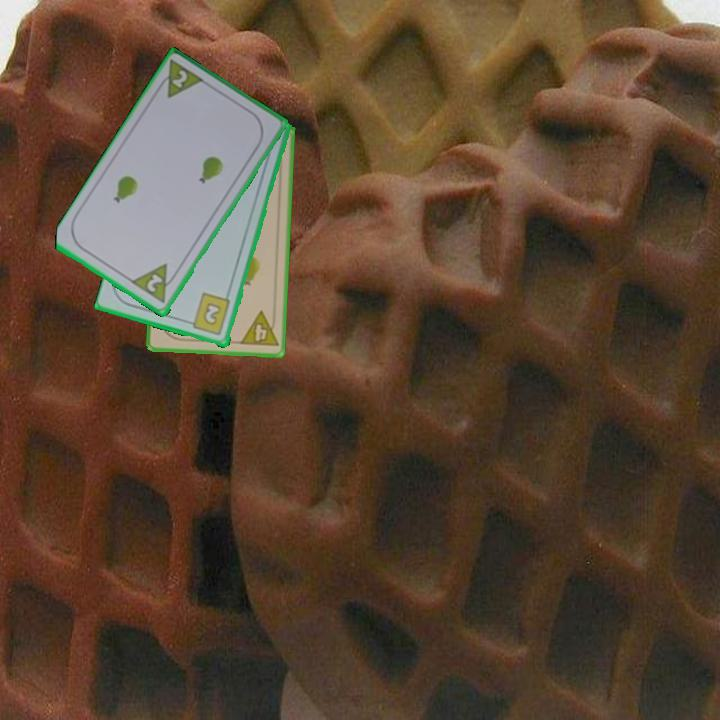2b: (184, 290, 234, 338)
2p: (152, 57, 208, 102), (143, 271, 166, 296)
4p: (236, 308, 281, 350)
